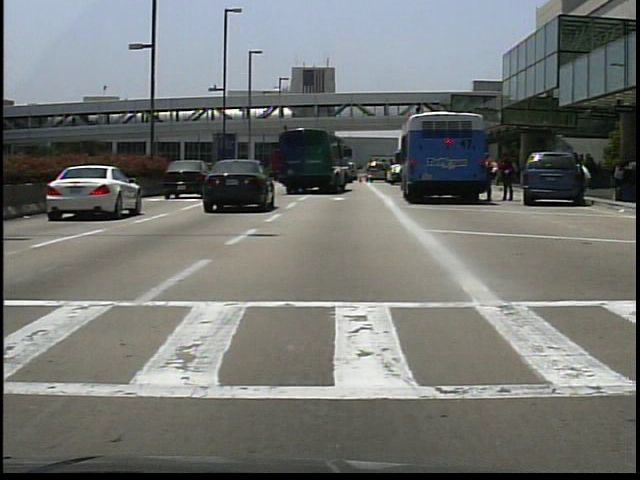person: (577, 159, 595, 201), (498, 155, 514, 202), (484, 152, 499, 201)
